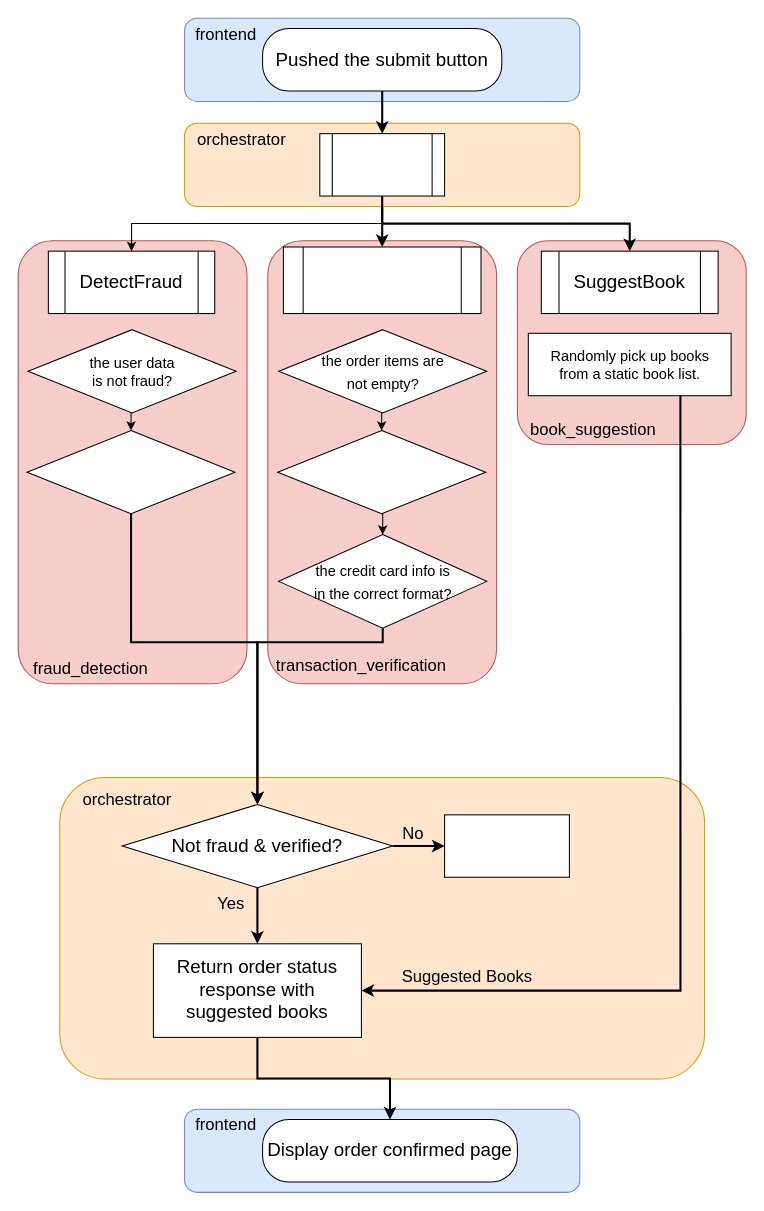
The diagram is 764 pixels wide and 1211 high, and some of its shapes have lost their labels. The centre of each missing label's shape, as x and y in pixels:
"checkout" goes at point 382,164.
"Reject" goes at point 506,845.
"the credit card info is not fraud?" goes at point 130,472.
"the user data is all filled in?" goes at point 381,472.
"VerifyTransaction" goes at point 381,280.
